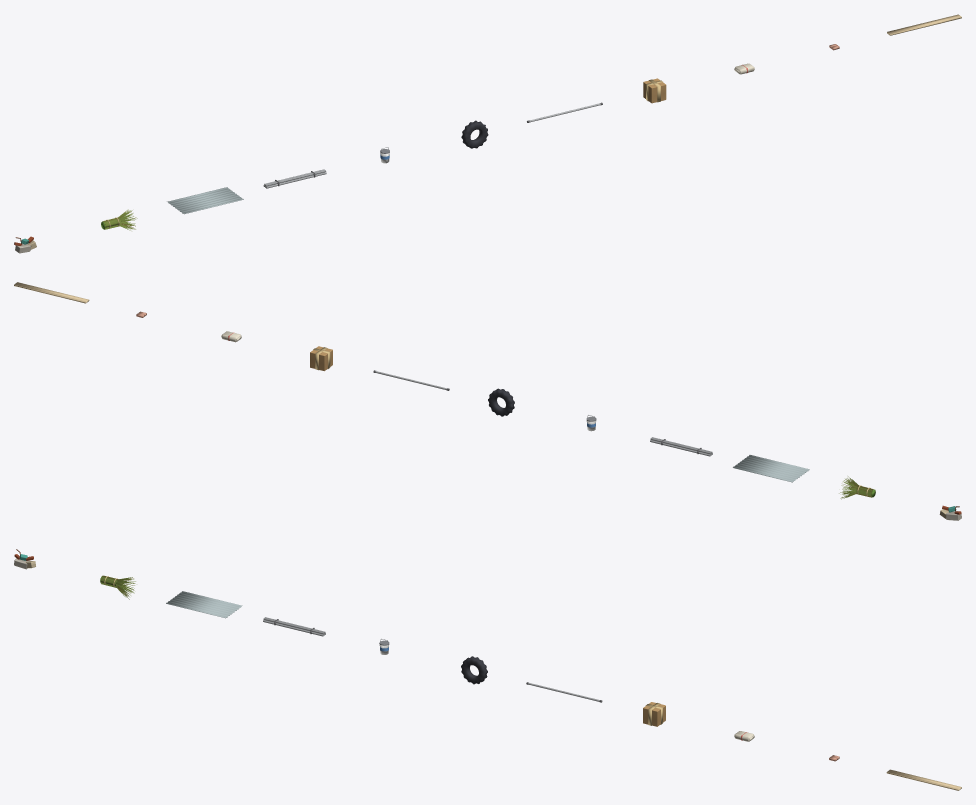
Rendered from Works_Carry.fbx.
The picture shows the model from 3 angles, top to bottom: view 1: azimuth 30°, elevation 25°; view 2: azimuth 150°, elevation 25°; view 3: azimuth 330°, elevation 25°; orthographic projection.
Visible parts, largest first — view 1: Prop_Sheet; view 2: Prop_Sheet; view 3: Prop_Sheet.
Boxes of the visible parts, x1,y1,x2,y2 form: Prop_Sheet: (167, 187, 243, 214); Prop_Sheet: (733, 455, 809, 482); Prop_Sheet: (166, 591, 242, 618).
Bounding box in the file's own units: 31.55 × 0.8166 × 1.
1 material, 1 textured.
